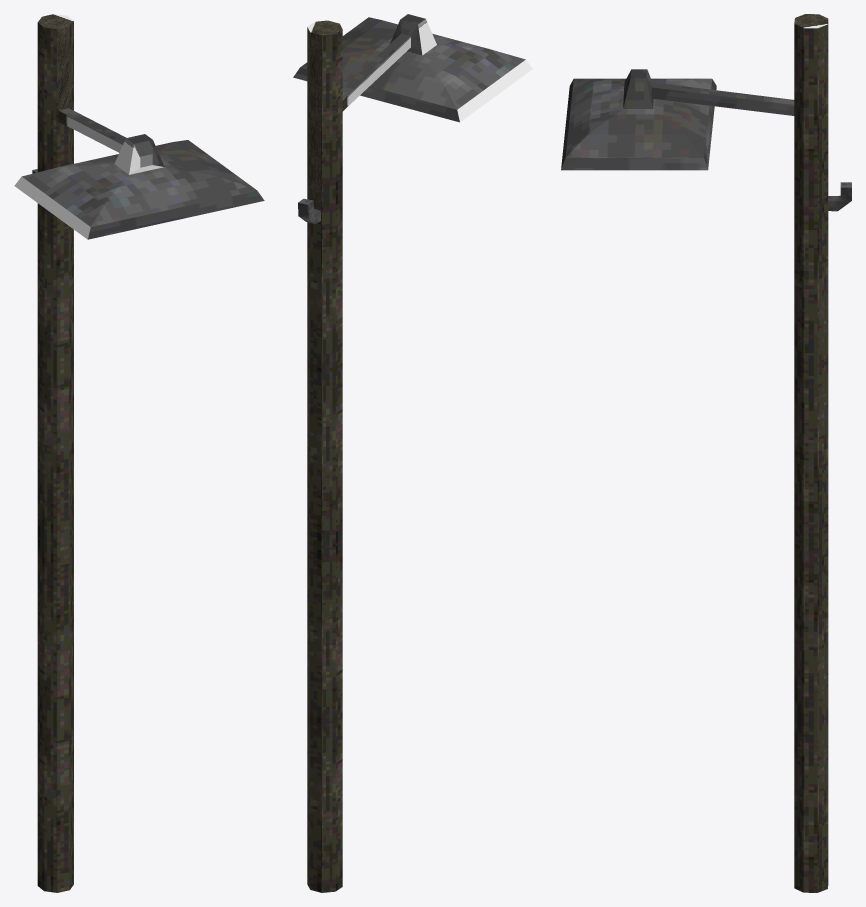
File: street_Light.glb
3 views of the same model, side by side, from view 1: azimuth 30°, elevation 25°; view 2: azimuth 150°, elevation 25°; view 3: azimuth 270°, elevation 25° (orthographic).
Parts seen in each view (by area): view 1: Cylinder; view 2: Cylinder; view 3: Cylinder.
Part boxes in pixels (left/top/right/bottom): Cylinder: left=14, top=14, right=264, bottom=892; Cylinder: left=293, top=14, right=532, bottom=892; Cylinder: left=561, top=14, right=851, bottom=892.
Bounding box in the file's own units: 1.8 × 8.62 × 2.63.
1 material, 1 textured.
